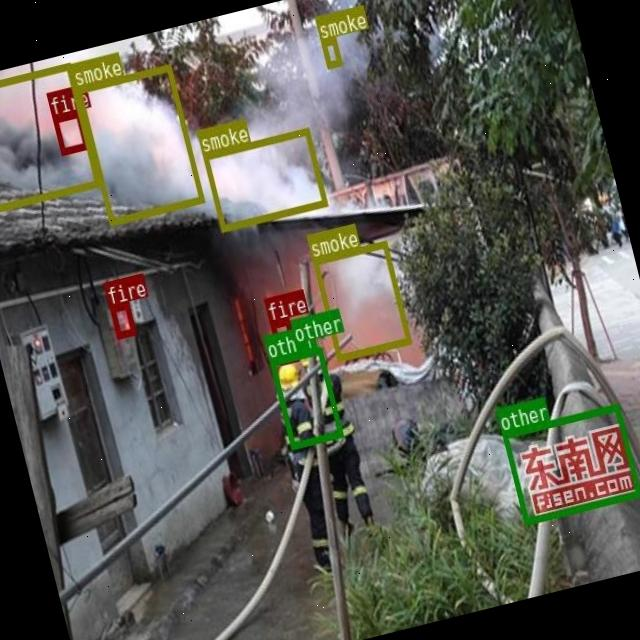fire: (51, 109, 88, 154), (269, 317, 298, 364), (109, 300, 136, 338)
smoke: (75, 63, 204, 224), (0, 62, 100, 216), (201, 126, 327, 232), (311, 239, 411, 360), (319, 35, 341, 68)
